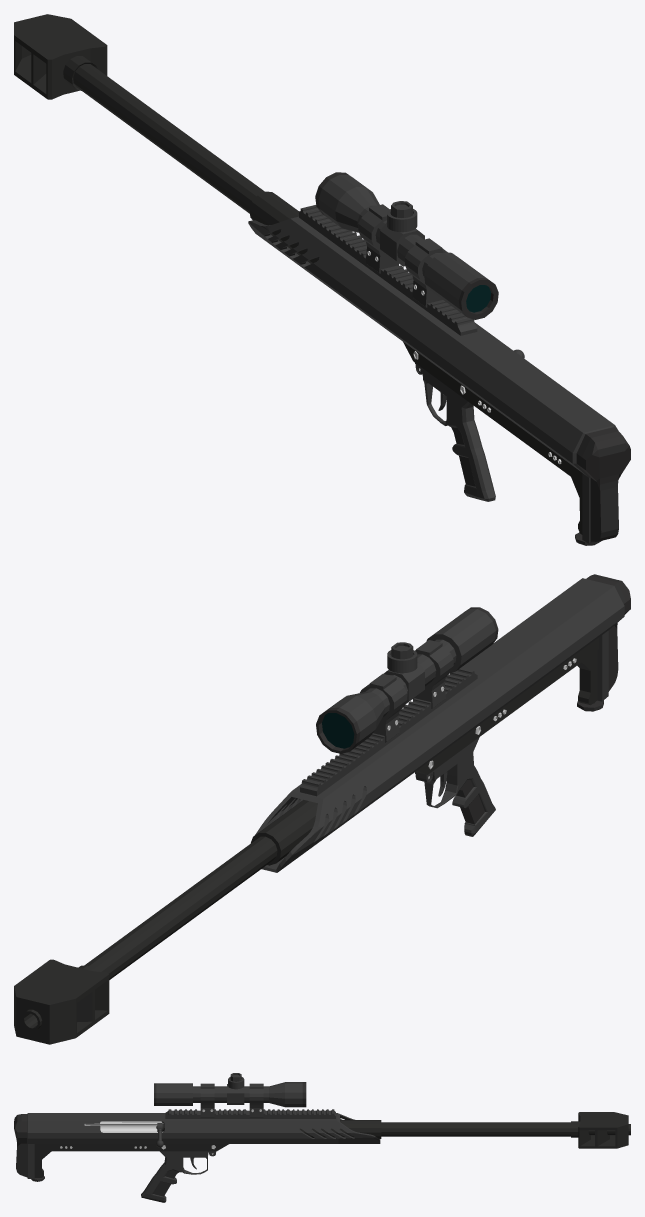
Rendered from w_sniper.glb.
The picture shows the model from 3 angles, top to bottom: view 1: azimuth 30°, elevation 25°; view 2: azimuth 150°, elevation 25°; view 3: azimuth 270°, elevation 25°; orthographic projection. The views are drawn at different scales.
Parts seen in each view (by area): view 1: Weapon; view 2: Weapon; view 3: Weapon.
Boxes of the visible parts, x1,y1,x2,y2 form: Weapon: [14, 14, 630, 545]; Weapon: [14, 574, 630, 1044]; Weapon: [14, 1073, 630, 1202].
Size of the model in its own units: 0.1137 by 0.3288 by 1.45.
